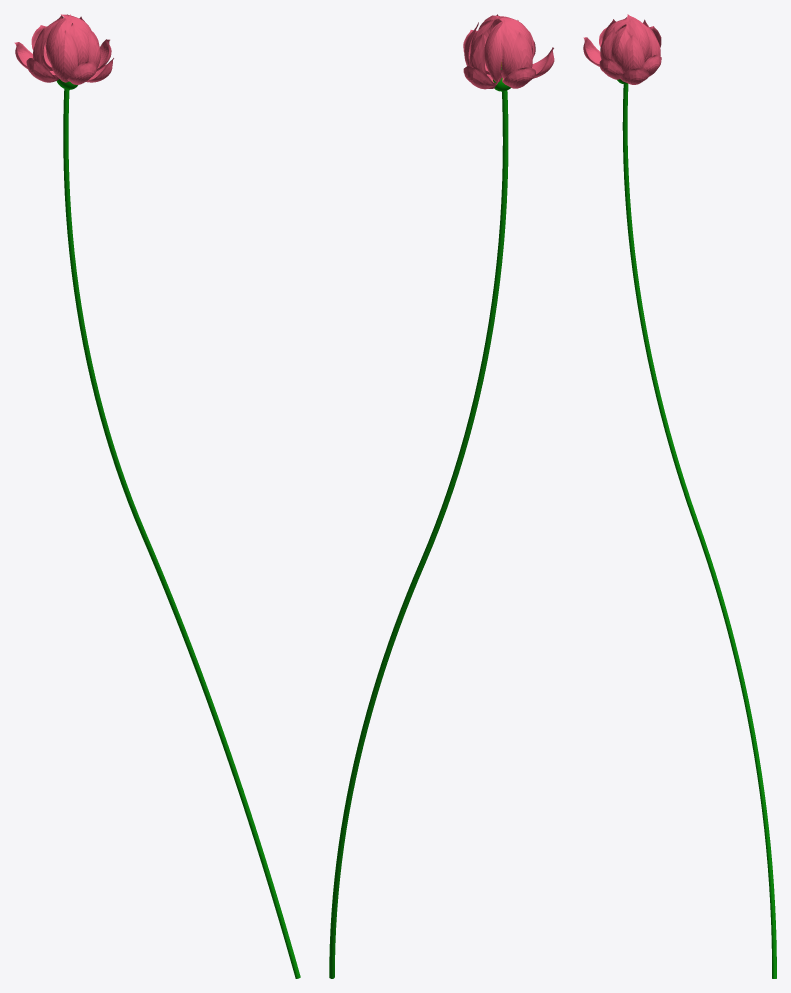
File: Lotus046.fbx
3 renders of one model, left to right at view 1: azimuth 30°, elevation 25°; view 2: azimuth 150°, elevation 25°; view 3: azimuth 330°, elevation 25°, orthographic. The views are drawn at different scales.
Visible parts, largest first — view 1: pCylinder5, nurbsToPoly16; view 2: pCylinder5, nurbsToPoly23, nurbsToPoly20, nurbsToPoly14; view 3: pCylinder5, nurbsToPoly13, nurbsToPoly22.
Part boxes in pixels (bbox=[...]): pCylinder5: bbox=[63, 89, 300, 978]; nurbsToPoly16: bbox=[51, 30, 77, 82]; pCylinder5: bbox=[329, 90, 508, 978]; nurbsToPoly23: bbox=[484, 21, 502, 82]; nurbsToPoly20: bbox=[500, 19, 517, 78]; nurbsToPoly14: bbox=[510, 32, 532, 73]; pCylinder5: bbox=[622, 84, 776, 978]; nurbsToPoly13: bbox=[620, 35, 644, 72]; nurbsToPoly22: bbox=[626, 14, 649, 60].
Size of the model in its own units: 51.94 by 204 by 23.81.
